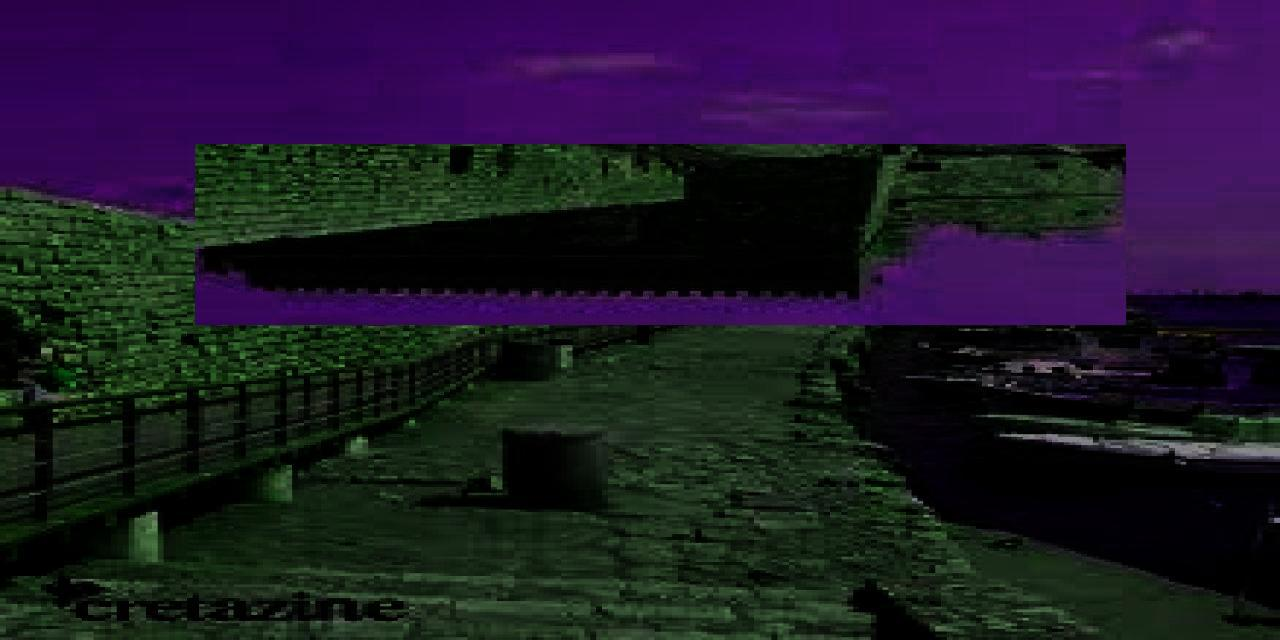Kules: (196, 145, 1127, 326)
